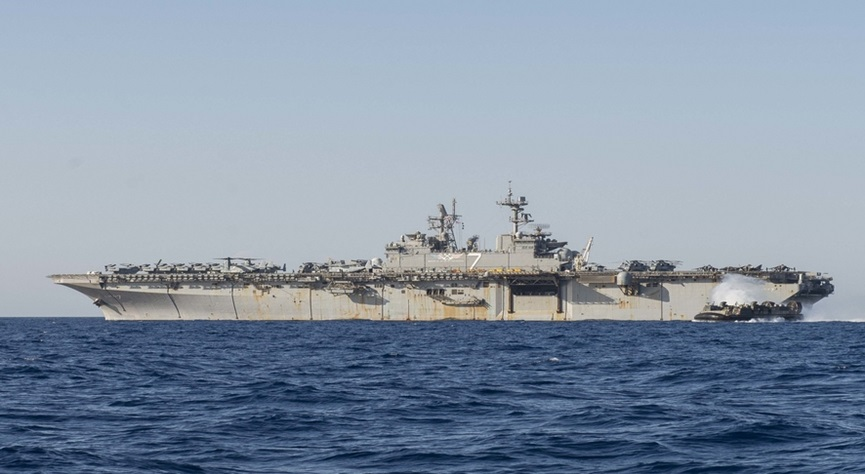Ship: (54, 219, 831, 320)
